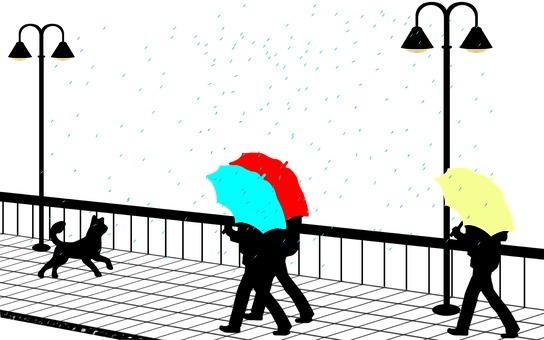dog: (30, 209, 117, 281)
person: (215, 191, 299, 336), (449, 194, 518, 340)
